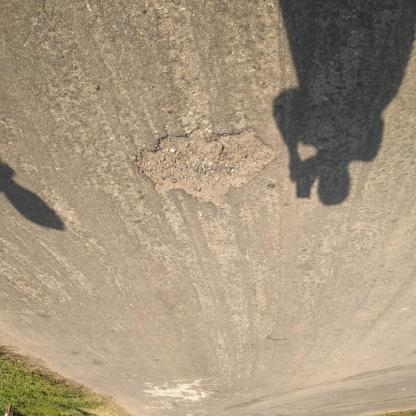pothole: (133, 127, 283, 212)
